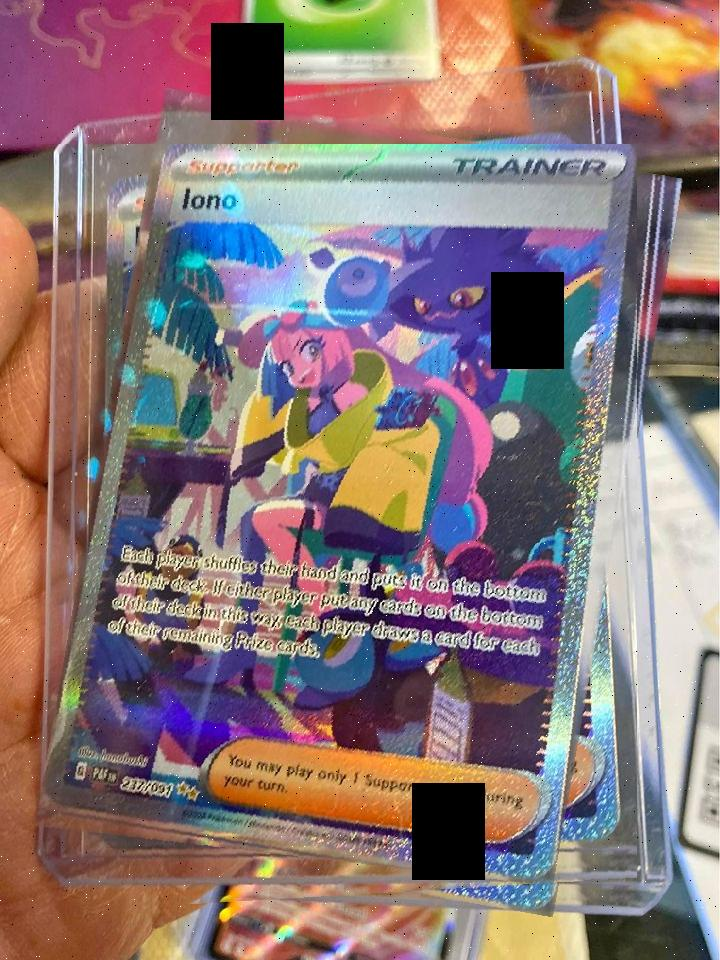card: (42, 144, 637, 884)
